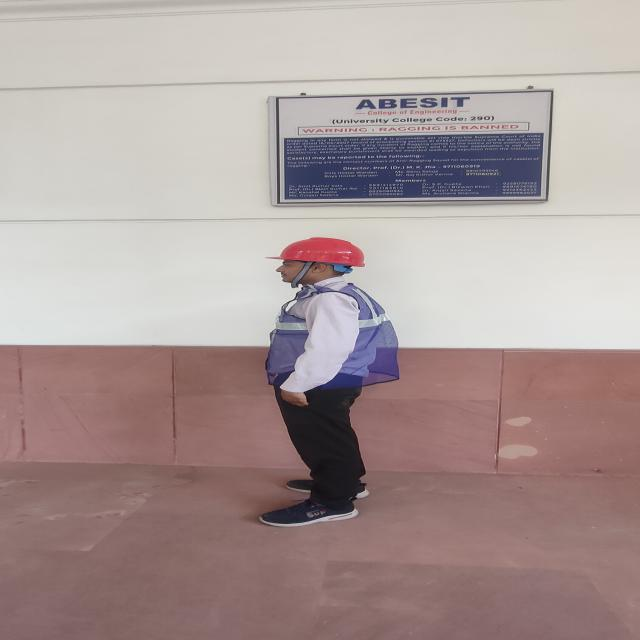safe: (264, 237, 400, 526)
